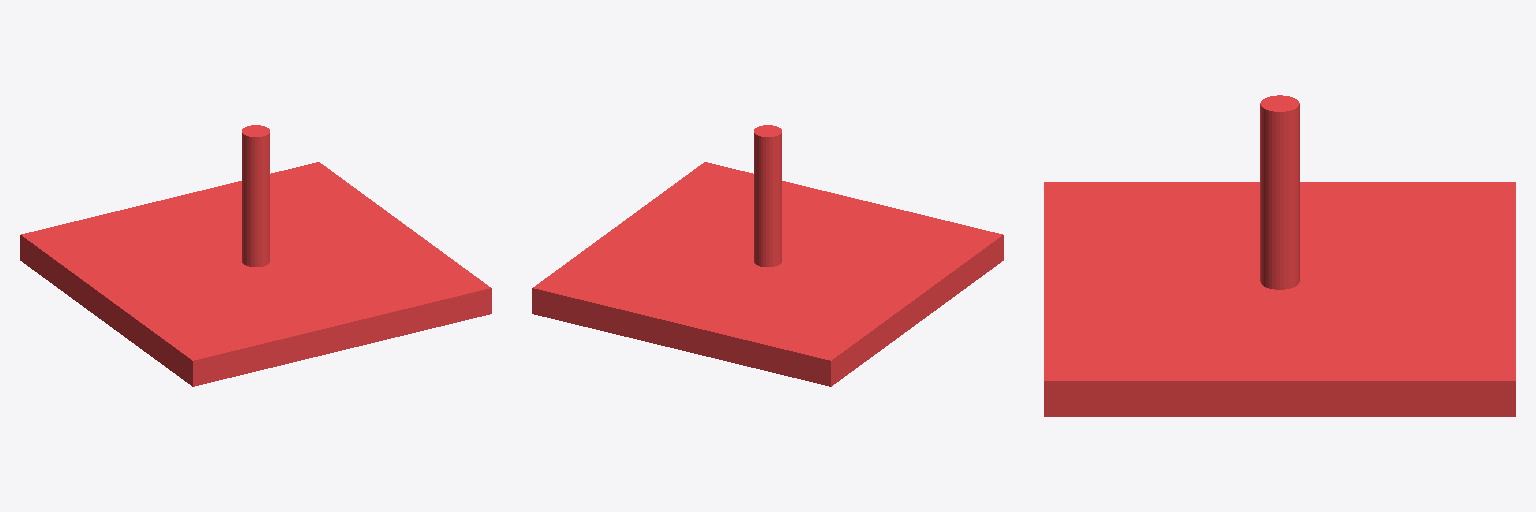
The robot description file, URDF, robot "red_stand":
<?xml version="1.0" encoding="UTF-8"?>

<robot name="red_stand">
  <link name="baseLink">
    <inertial>
      <origin rpy="0 0 0" xyz="0 0 0"/>
      <mass value=".1"/>
      <inertia ixx="1" ixy="0" ixz="0" iyy="1" iyz="0" izz="1"/>
    </inertial>

    <visual>
      <origin rpy="0 0 0" xyz="0 0 0.03"/>
      <geometry>
        <cylinder radius=".005" length="0.05"/>
      </geometry>
      <material name="red">
        <color rgba="1.0 0.341 0.349 1"/>
      </material>
    </visual>
    <collision>
      <origin rpy="0 0 0" xyz="0 0 0.03"/>
      <geometry>
        <cylinder radius=".005" length="0.05"/>
      </geometry>
    </collision>

    <visual>
      <origin rpy="0 0 0" xyz="0 0 0"/>
      <geometry>
        <box size=".12 .12 .01"/>
      </geometry>
      <material name="red">
        <color rgba="1.0 0.341 0.349 1"/>
      </material>
    </visual>
    <collision>
      <origin rpy="0 0 0" xyz="0 0 0"/>
      <geometry>
        <box size=".12 .12 .01"/>
      </geometry>
    </collision>
  </link>
</robot>

--- Facts derived from the render (not from the file) ---
Views: 3 orthographic renders of the robot side by side, from view 1: azimuth 30°, elevation 25°; view 2: azimuth 150°, elevation 25°; view 3: azimuth 270°, elevation 25°.
Robot: red_stand — 1 links, 0 joints (none); root link baseLink; default pose: every joint at zero.
Visible links, largest first — view 1: baseLink; view 2: baseLink; view 3: baseLink.
Link boxes in pixels (left/top/right/bottom): baseLink: left=20, top=125, right=491, bottom=386; baseLink: left=532, top=125, right=1003, bottom=386; baseLink: left=1044, top=95, right=1515, bottom=416.
Size in the robot's own frame: 0.12 by 0.12 by 0.06 metres.
Geometry: primitives only (box / cylinder / sphere), no mesh files.
